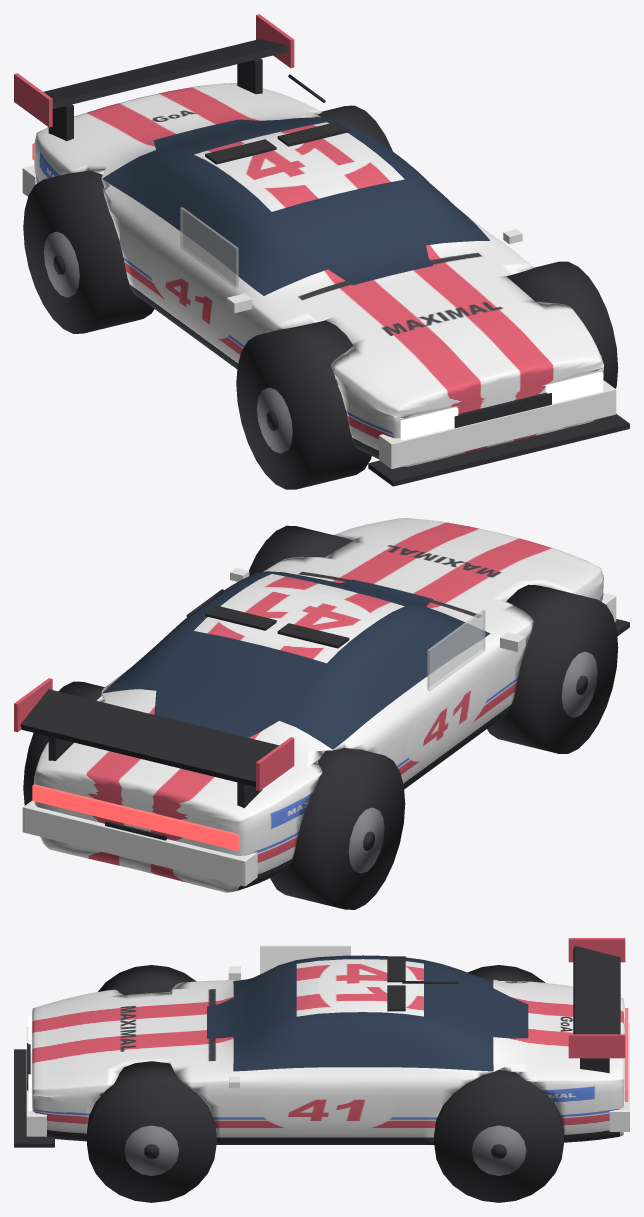
The model's file is car_0.glb.
3 renders of one model, top to bottom at view 1: azimuth 30°, elevation 25°; view 2: azimuth 150°, elevation 25°; view 3: azimuth 270°, elevation 25°, orthographic. The views are drawn at different scales.
Visible parts, largest first — view 1: body, cutter, cutter.002, bumperF, spoiler, cutter.001, splitter, net, dish, dish.002, grille, endplate (+8 smaller); view 2: body, cutter, cutter.002, spoiler, bumperR, tail, net, cutter.001, dish, dish.002, cutter.003, endplate (+3 smaller); view 3: body, cutter.001, cutter.003, spoiler, dish.003, dish.001, cutter, splitter, net, endplate.001, endplate, cutter.002 (+5 smaller).
Part boxes in pixels (x1,y1,x2,y2): body: (34,83,603,466); cutter: (236,320,371,489); cutter.002: (23,170,154,333); bumperF: (379,380,616,468); spoiler: (43,39,287,108); cutter.001: (507,261,618,388); splitter: (368,414,629,486); net: (180,207,238,288); dish: (257,387,292,453); dish.002: (44,231,79,297); grille: (454,392,551,428); endplate: (14,73,52,127); body: (34,518,603,892); cutter: (487,584,618,753); cutter.002: (270,748,405,909); spoiler: (20,689,278,786); bumperR: (22,801,257,886); tail: (32,784,239,850); net: (427,609,485,691); cutter.001: (249,525,352,575); dish: (561,651,597,717); dish.002: (348,807,384,873); cutter.003: (23,681,104,805); endplate: (256,737,294,791); body: (32,955,624,1144); cutter.001: (87,1061,216,1202); cutter.003: (434,1070,563,1202); spoiler: (573,945,620,1034); dish.003: (471,1125,526,1175); dish.001: (124,1125,178,1175); cutter: (98,965,196,995); splitter: (14,1049,54,1147); net: (260,945,350,974); endplate.001: (568,1034,625,1058); endplate: (568,938,625,962); cutter.002: (468,965,545,982).
Bounding box in the file's own units: 2.58 × 1.76 × 5.41.
Materials: 11 (1 with a texture image).
